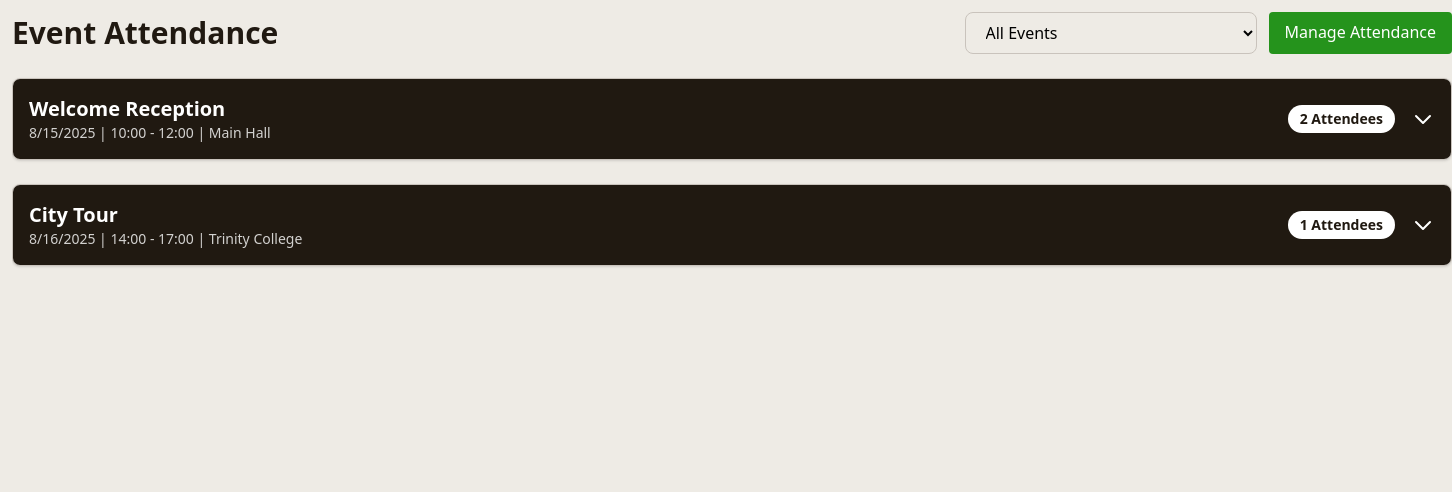
Admin Event Attendance Page › should expand event to show attendees when clicked
Expected: the heading "Welcome Reception" is shown, [29, 95, 225, 122]
// Click on the first event header
Step 1. Click the button "Welcome Reception" → (127,108), box [13, 79, 1451, 159]
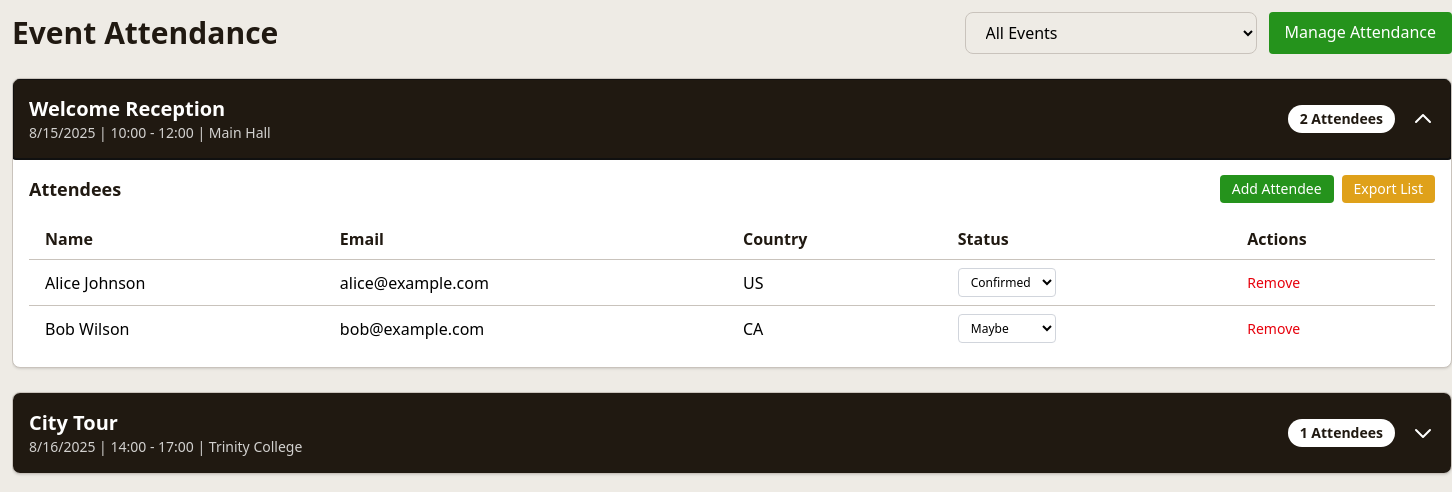
Expected: the heading "Attendees" is shown, [29, 175, 121, 203]
Expected: the text "Alice Johnson" is shown, [29, 260, 324, 306]
Expected: the text "Bob Wilson" is shown, [29, 306, 324, 351]
